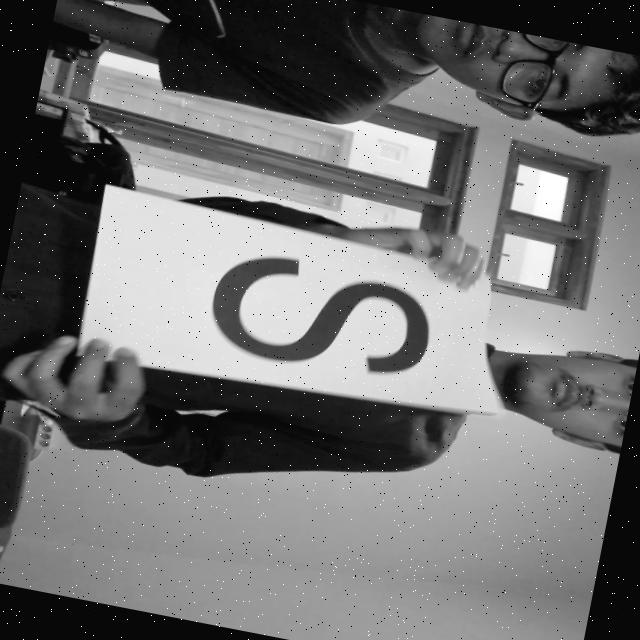s: (180, 238, 445, 393)
